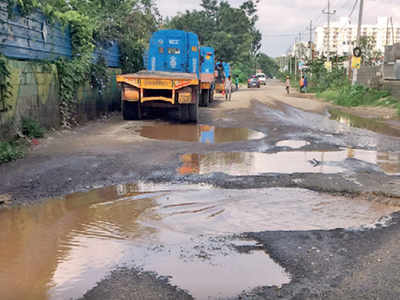pothole: (2, 176, 397, 297), (176, 145, 399, 180), (143, 112, 273, 145)
